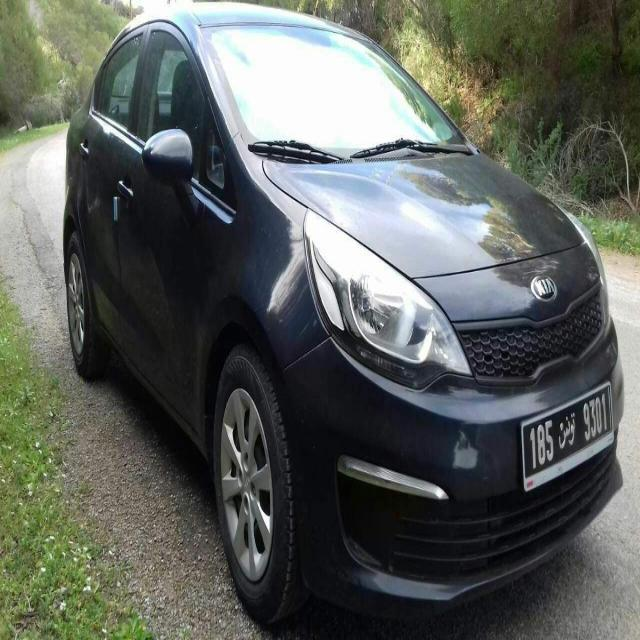LP: (520, 382, 618, 484)
